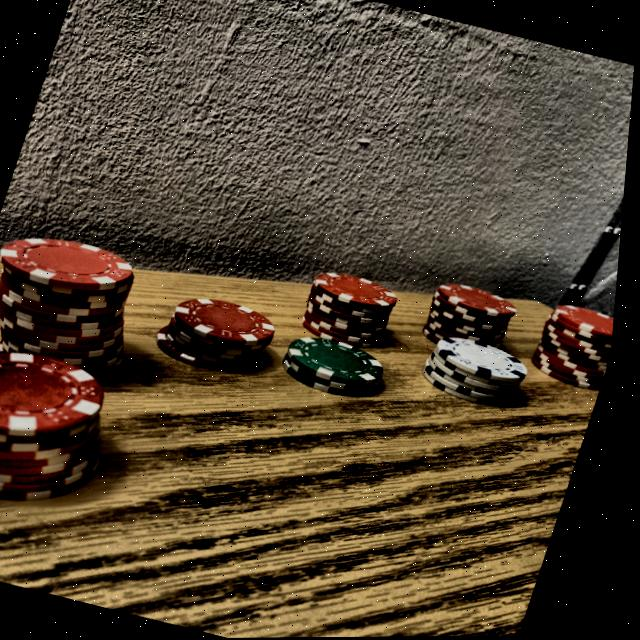Chip: (0, 326, 159, 534), (0, 209, 174, 395), (147, 281, 291, 387), (269, 314, 407, 415), (418, 314, 544, 418), (409, 271, 531, 367), (297, 261, 411, 358), (528, 292, 621, 403)
